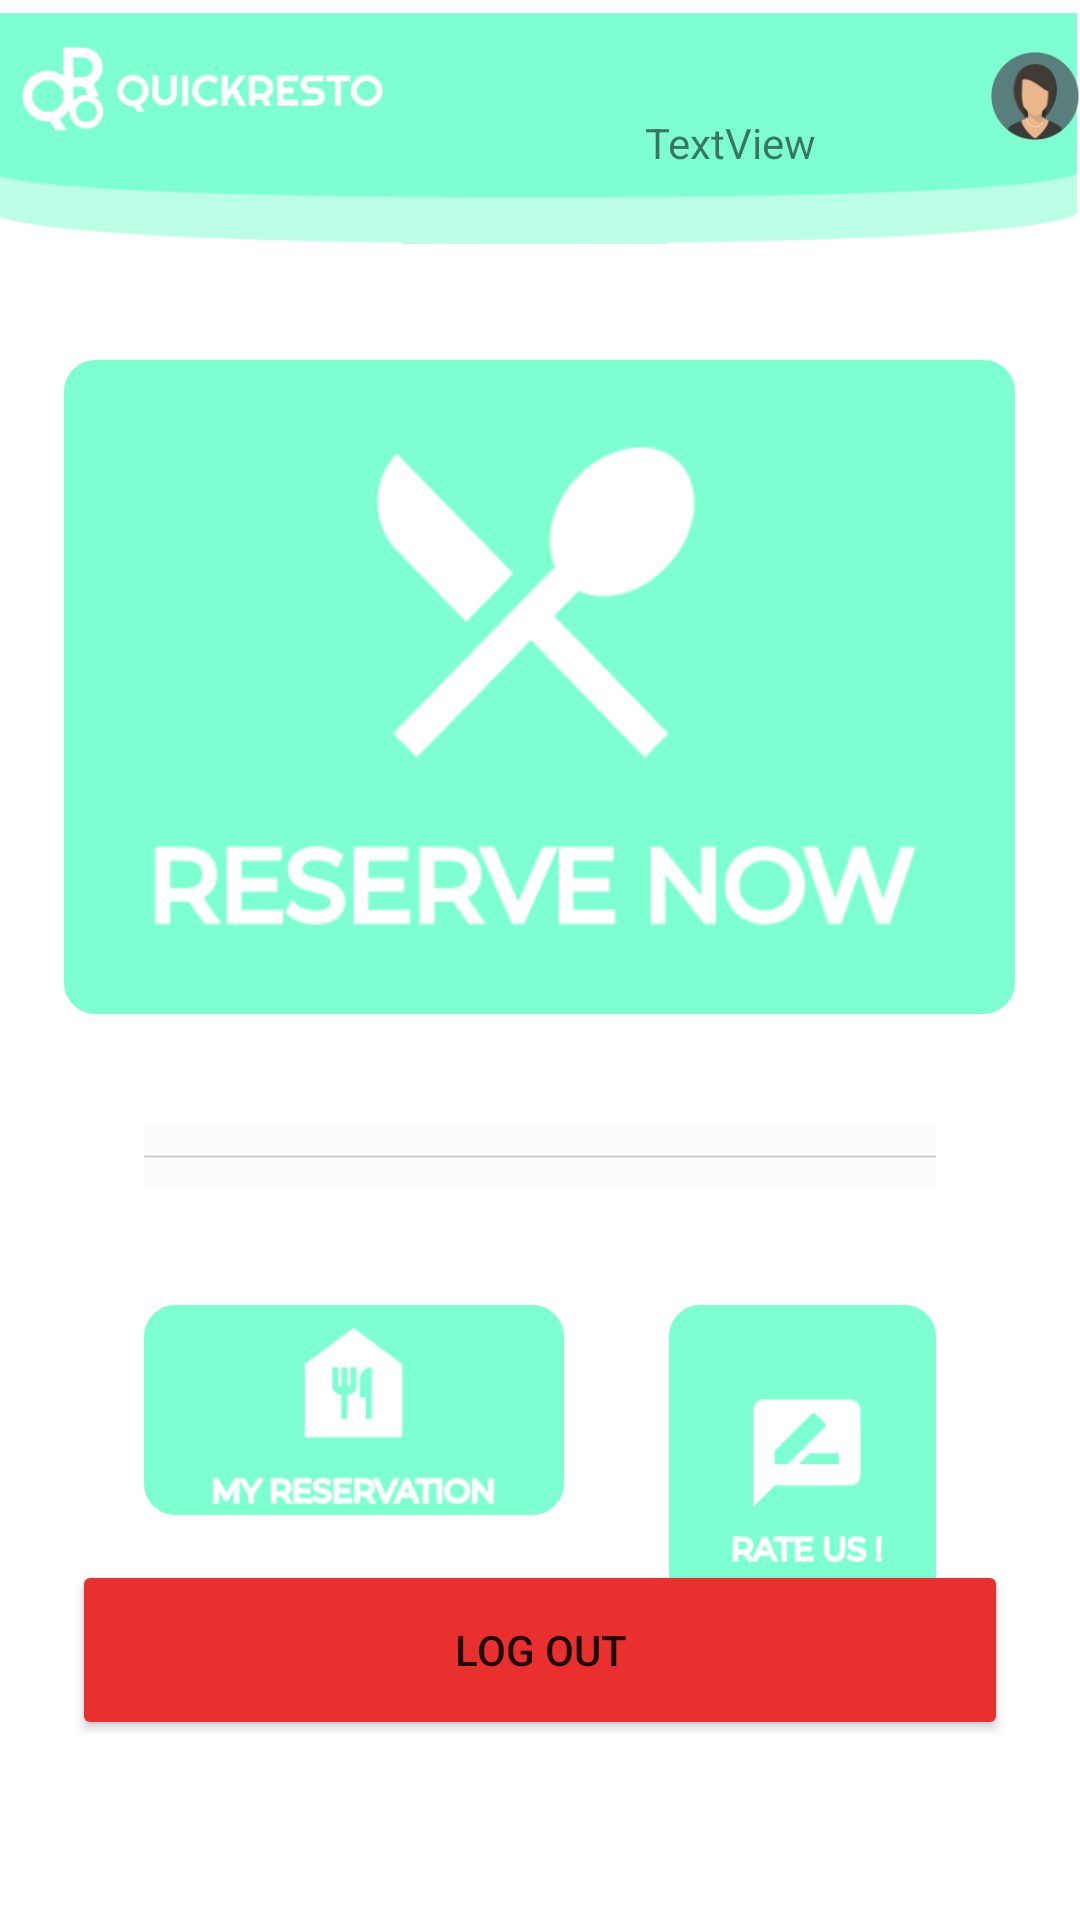

Icon click points for this 1080 x 1920 phone screenshot, format (x=x, y=y):
user: (x=1035, y=96)
